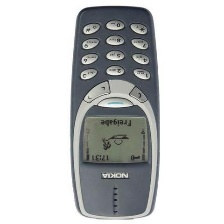phone: (68, 4, 161, 220)
